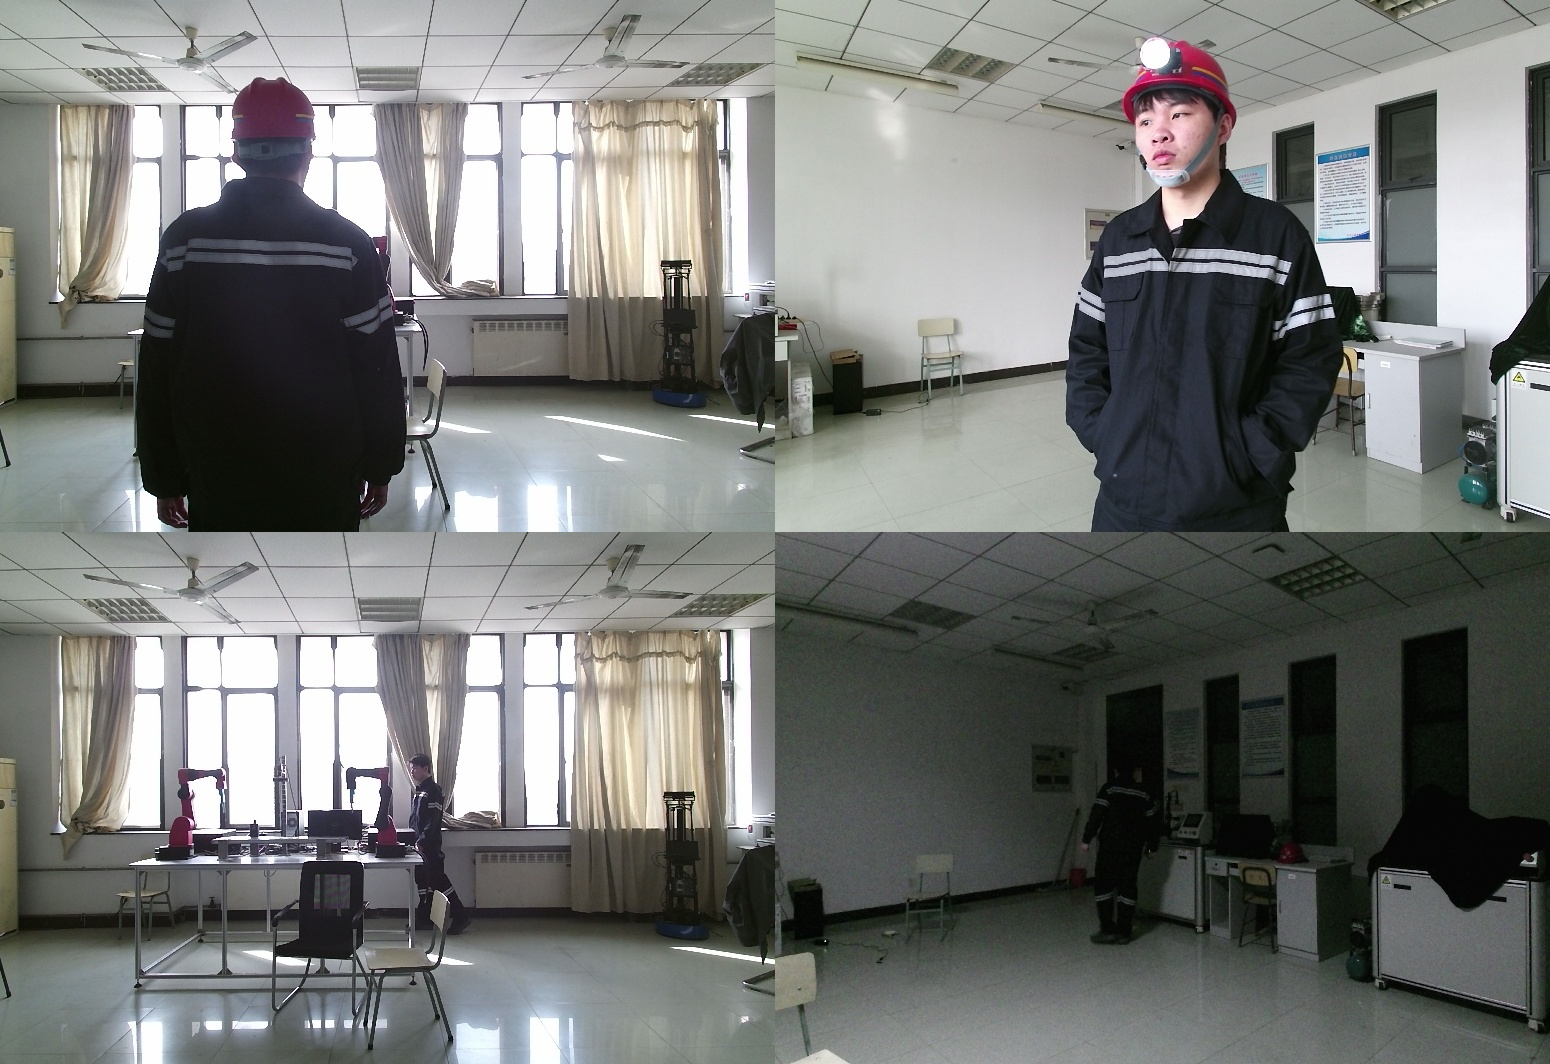person: (1076, 51, 1377, 532), (136, 79, 409, 532), (1081, 756, 1171, 953), (407, 752, 470, 939)
